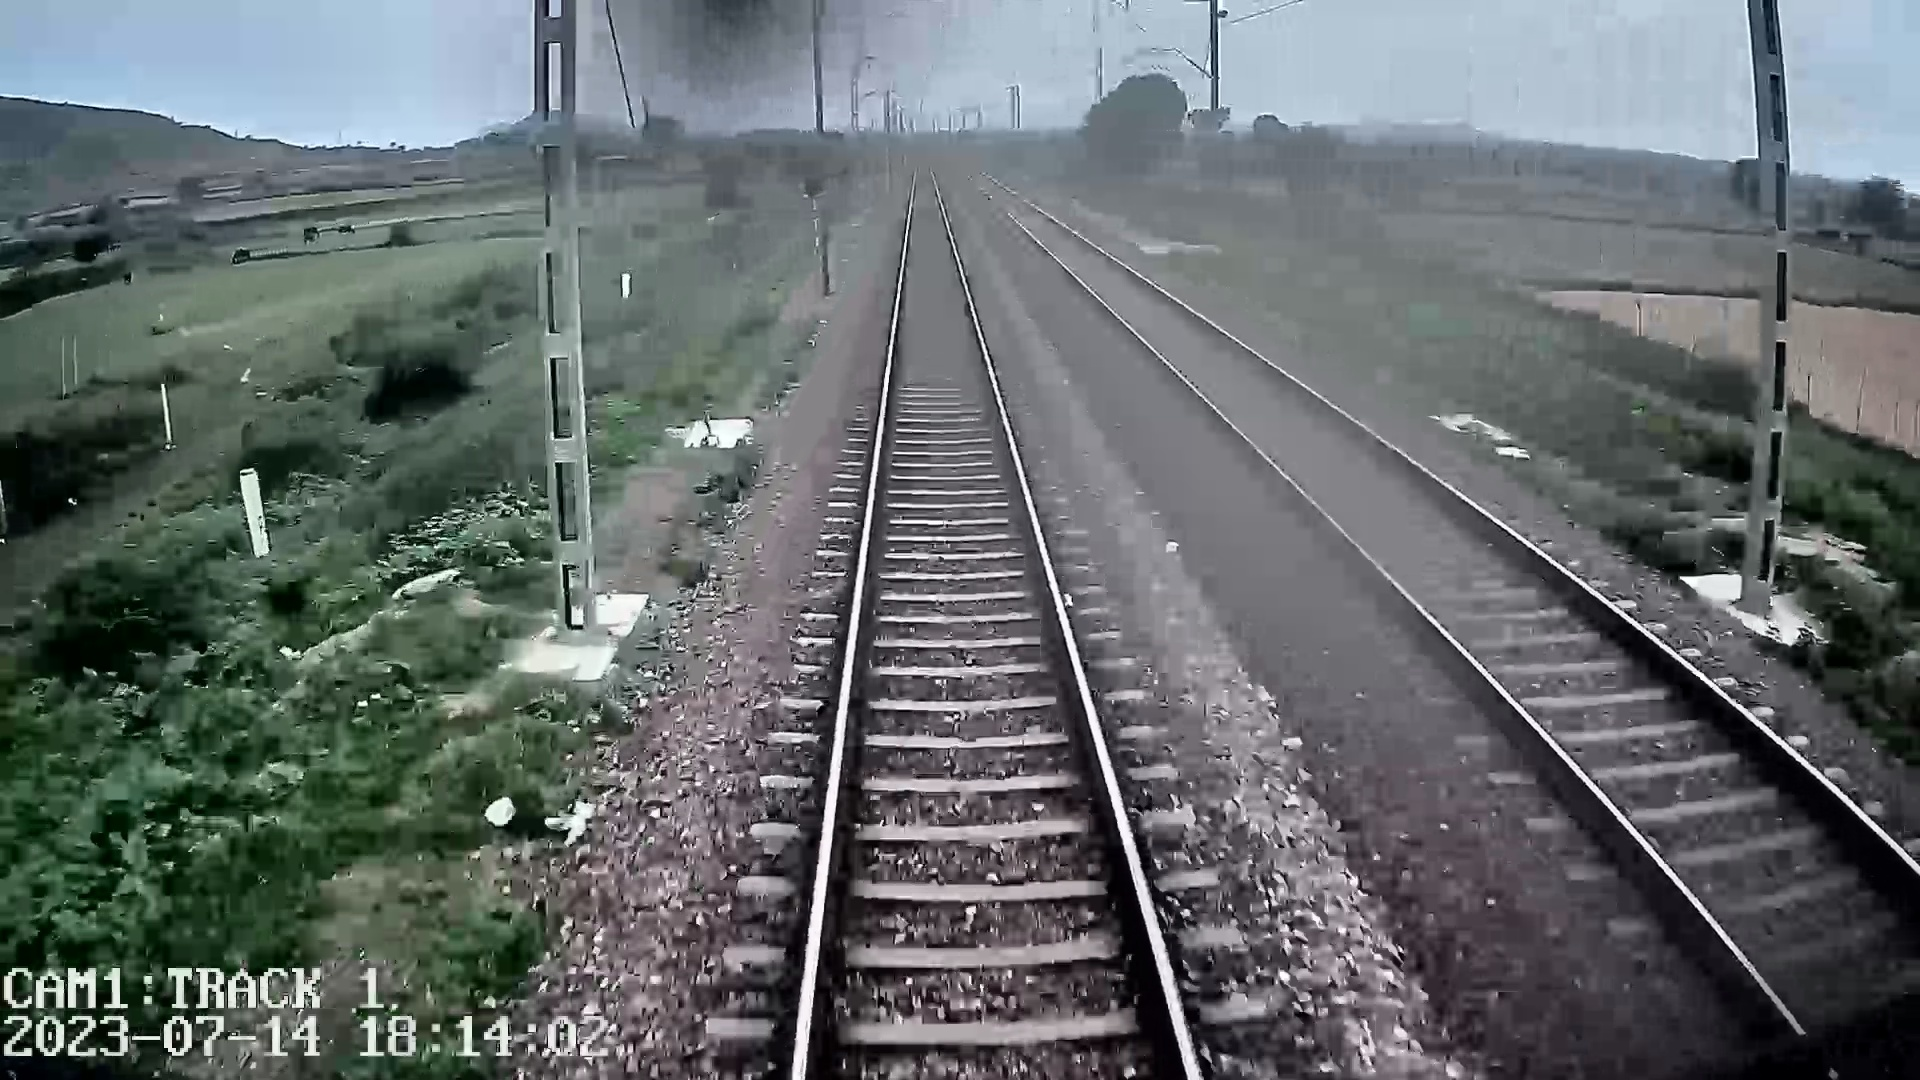track1: (799, 169, 1191, 1069)
track2: (997, 200, 1919, 1033)
